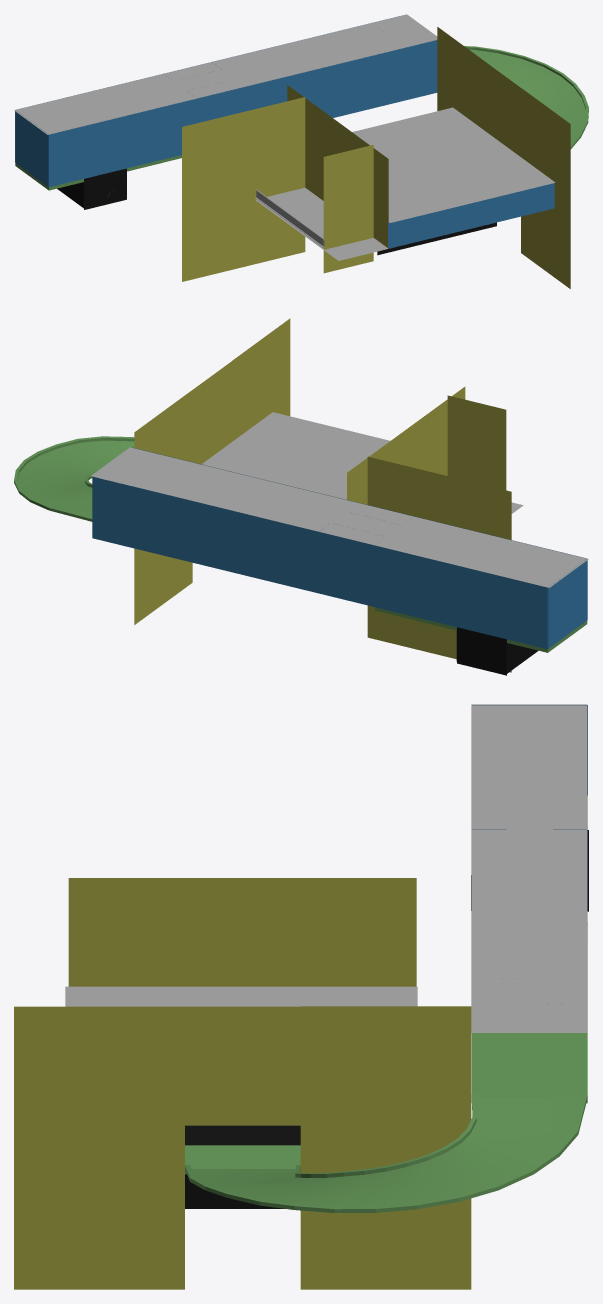
Rendered from TutorialLevelV2.fbx.
3 views of the same model, one above another, from view 1: azimuth 30°, elevation 25°; view 2: azimuth 150°, elevation 25°; view 3: azimuth 270°, elevation 25° (orthographic). The views are drawn at different scales.
Visible parts, largest first — view 1: UpperPlatform16; view 2: UpperPlatform16; view 3: UpperPlatform16.
Boxes of the visible parts, x1,y1,x2,y2 form: UpperPlatform16: (14, 14, 588, 288); UpperPlatform16: (14, 318, 588, 675); UpperPlatform16: (14, 704, 588, 1289).
Bounding box in the file's own units: 85.36 × 26.95 × 49.58.
